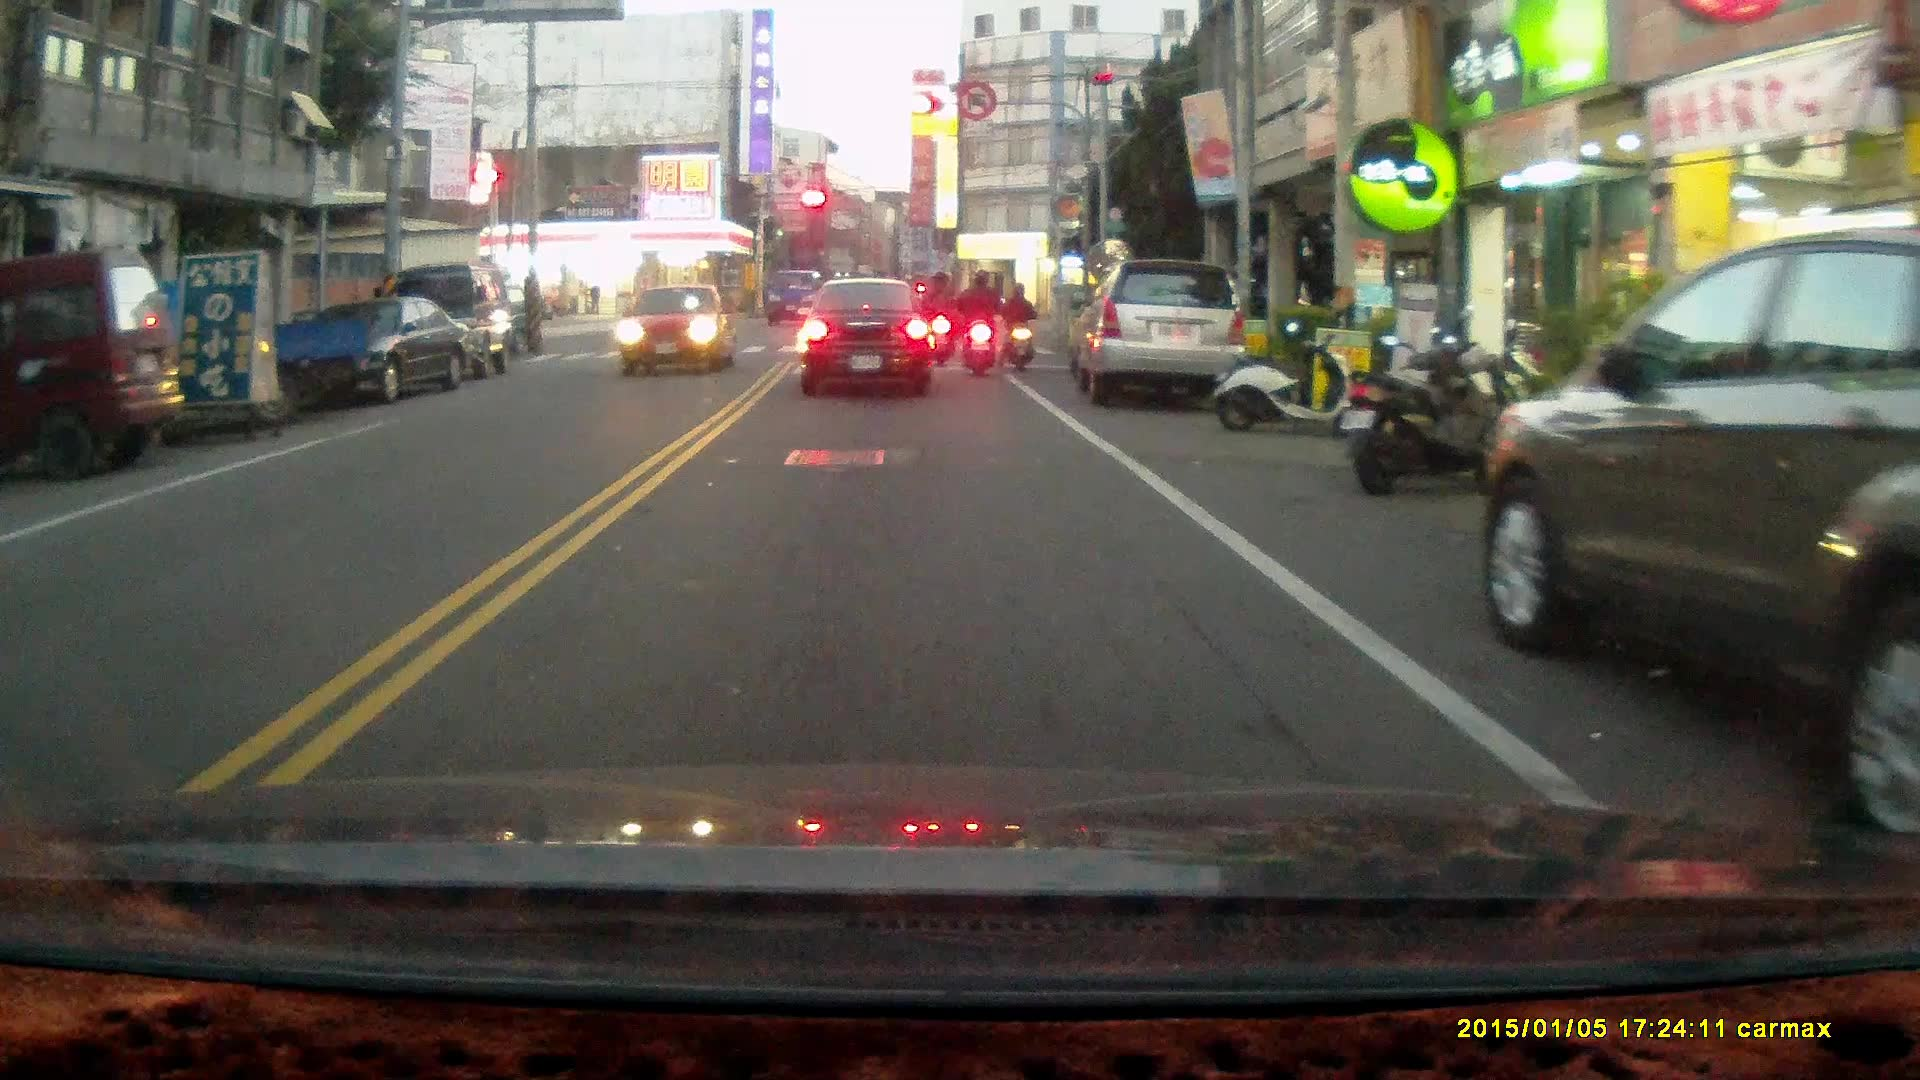rider: (955, 269, 1005, 379), (921, 270, 957, 368), (1001, 283, 1035, 375)
vehicle: (1481, 231, 1920, 840), (1, 250, 187, 479), (1068, 257, 1253, 416), (266, 293, 479, 405), (799, 275, 938, 399), (385, 258, 520, 385), (617, 284, 732, 378)
